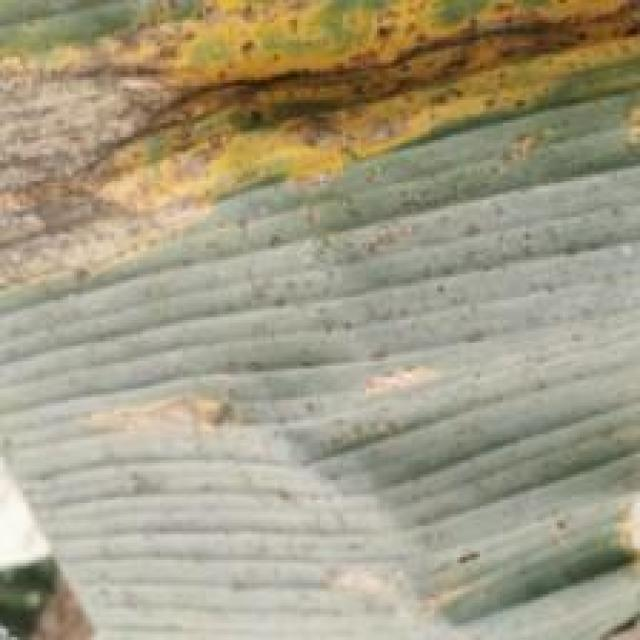Downey_mildrew: (0, 0, 637, 286), (75, 385, 254, 459), (586, 499, 640, 640)
